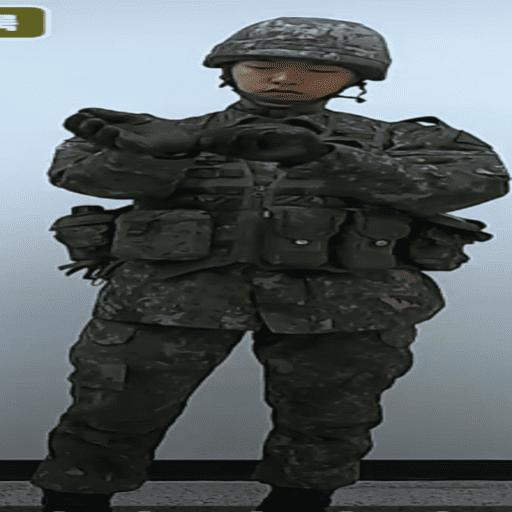korea army: (29, 15, 509, 509)
